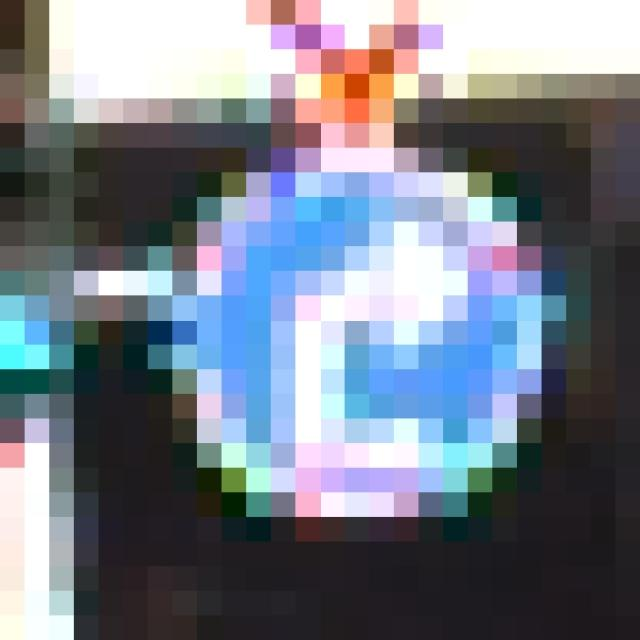Turn right ahead: (171, 164, 589, 558)
